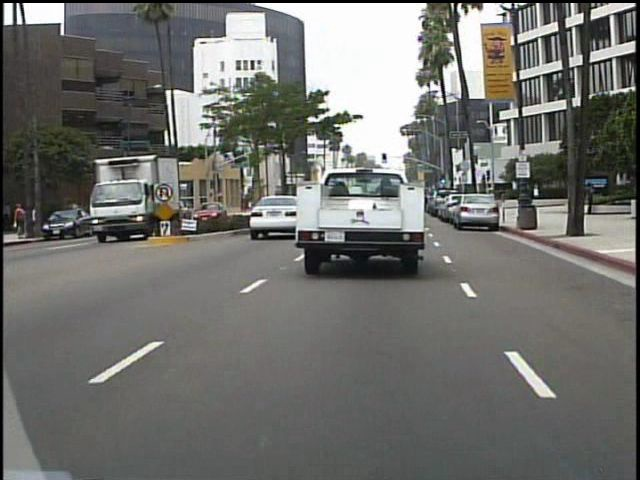person: (583, 179, 599, 217)
